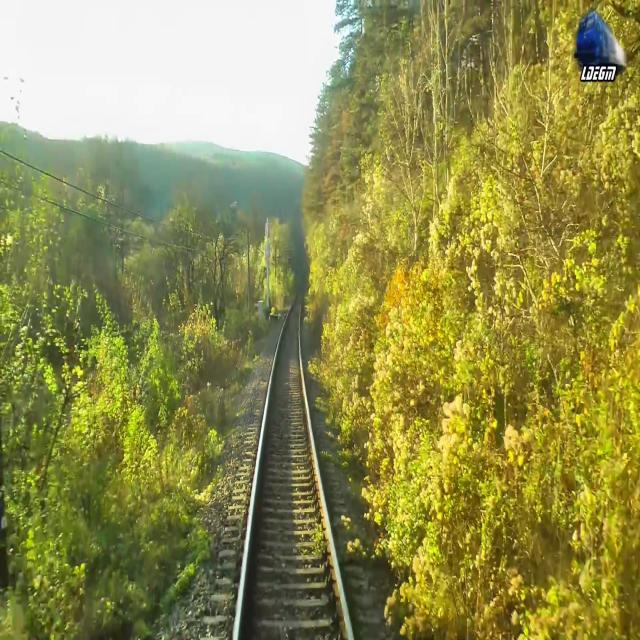rail-track: (238, 295, 349, 639)
